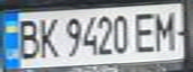0: (112, 11, 133, 55)
2: (96, 11, 115, 56)
4: (81, 12, 100, 57)
9: (60, 14, 84, 58)
B: (12, 16, 42, 61)
E: (130, 9, 160, 54)
K: (36, 15, 60, 60)
M: (151, 7, 181, 52)
